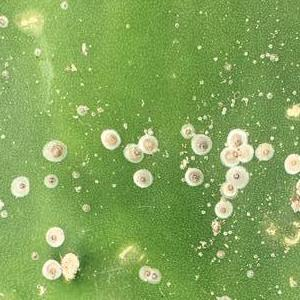Femea: (185, 167, 204, 186), (193, 133, 210, 153), (47, 142, 63, 160), (228, 168, 245, 184), (223, 147, 239, 162), (14, 177, 27, 195), (45, 232, 62, 245), (43, 265, 60, 278), (259, 142, 272, 159), (286, 153, 297, 170), (135, 171, 148, 185), (179, 123, 192, 137), (42, 172, 55, 185), (232, 131, 242, 146), (148, 270, 160, 282), (131, 147, 142, 160), (108, 133, 117, 147), (215, 203, 227, 213), (211, 223, 221, 235), (142, 266, 151, 278), (224, 184, 233, 194), (0, 14, 7, 26), (59, 2, 68, 9), (31, 253, 37, 260)
Linfa: (269, 186, 291, 225), (236, 81, 259, 114), (268, 39, 290, 65), (203, 108, 223, 126), (249, 251, 262, 278), (70, 171, 80, 178), (229, 227, 235, 237), (81, 203, 88, 211), (212, 55, 218, 62), (268, 134, 275, 140), (288, 124, 295, 130), (293, 133, 299, 139), (196, 44, 203, 49), (242, 50, 249, 55), (93, 178, 98, 184), (111, 182, 116, 186), (292, 141, 297, 145)
